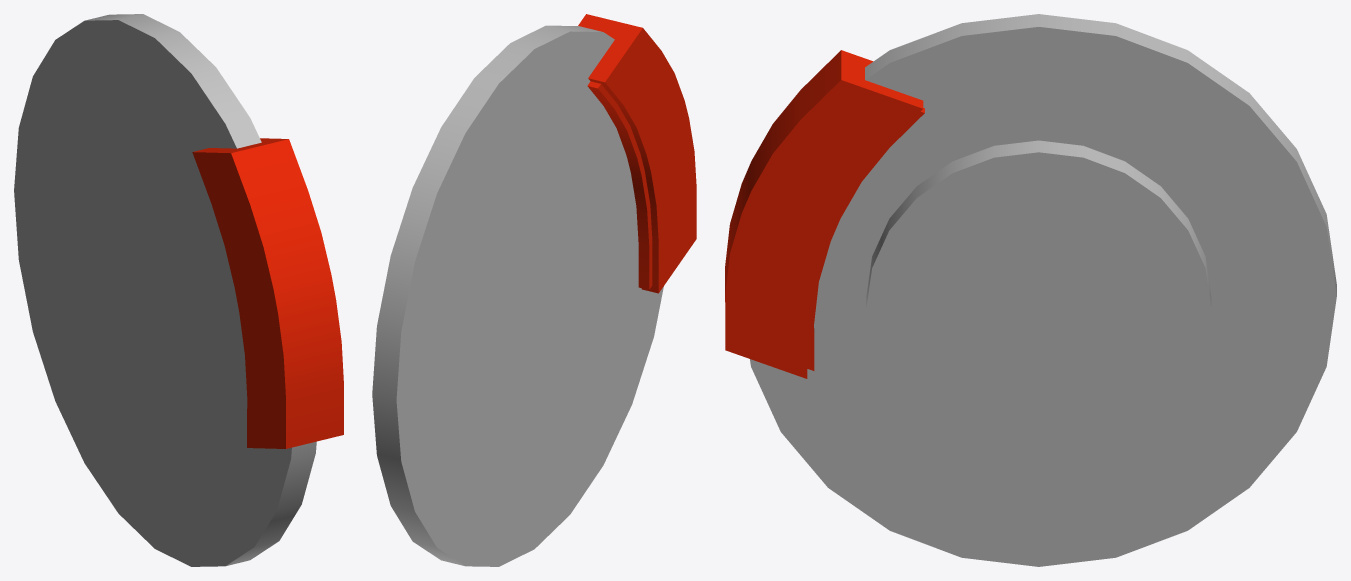
The model's file is brakes.fbx.
The picture shows the model from 3 angles, left to right: view 1: azimuth 30°, elevation 25°; view 2: azimuth 150°, elevation 25°; view 3: azimuth 270°, elevation 25°; orthographic projection. The views are drawn at different scales.
Parts seen in each view (by area): view 1: brakes; view 2: brakes; view 3: brakes.
Part boxes in pixels (left/top/right/bottom): brakes: left=14, top=14, right=343, bottom=566; brakes: left=372, top=14, right=696, bottom=566; brakes: left=725, top=14, right=1336, bottom=566.
Bounding box in the file's own units: 5.22 × 39.14 × 40.17.
